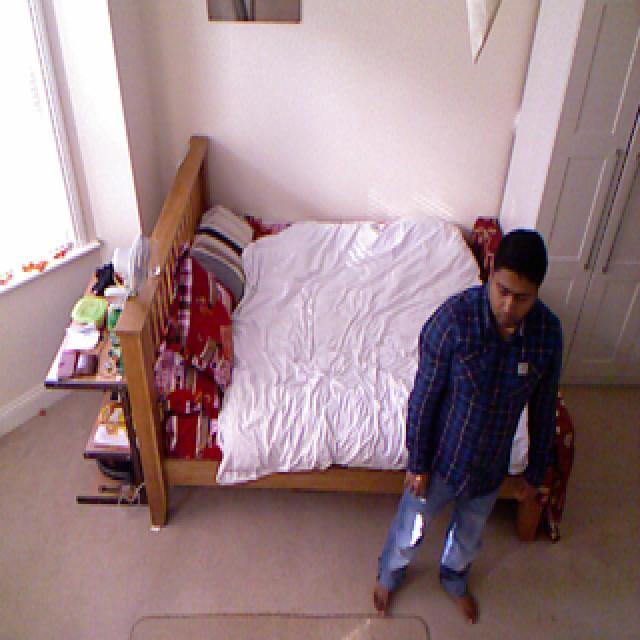standing: (397, 213, 572, 633)
